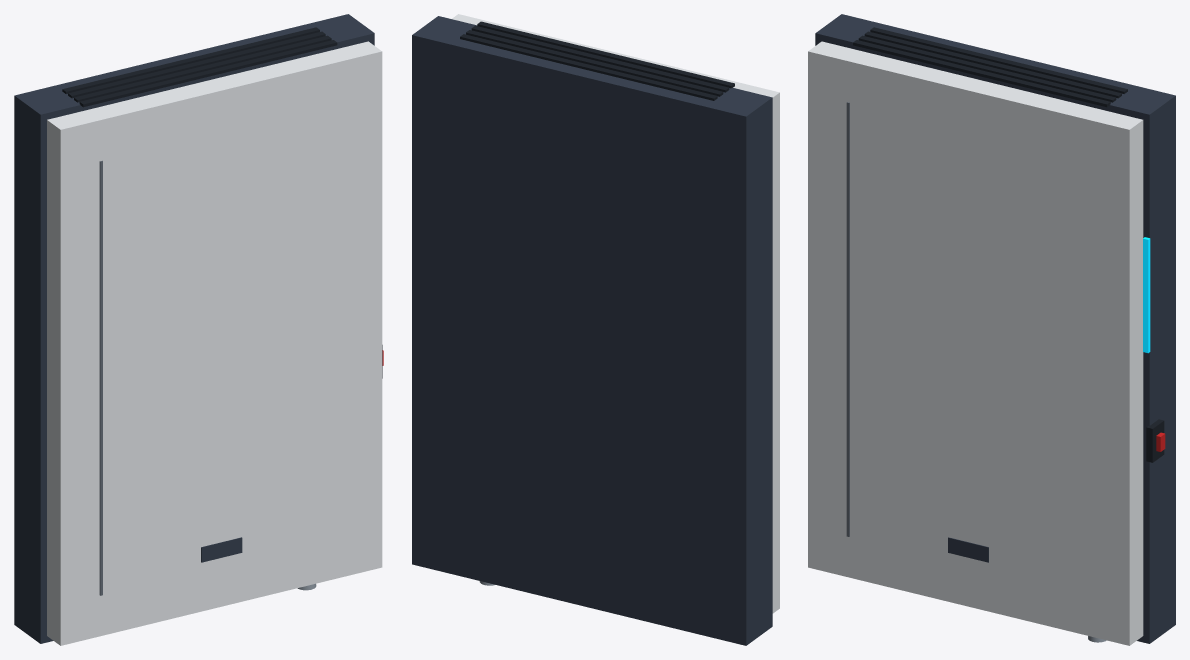
3 renders of one model, left to right at view 1: azimuth 30°, elevation 25°; view 2: azimuth 150°, elevation 25°; view 3: azimuth 330°, elevation 25°, orthographic.
Parts seen in each view (by area): view 1: cad-battery-wall-ess; view 2: cad-battery-wall-ess; view 3: cad-battery-wall-ess.
Part boxes in pixels (box(x1,y1,x2,y2)): cad-battery-wall-ess: box(14, 14, 383, 645); cad-battery-wall-ess: box(412, 14, 779, 645); cad-battery-wall-ess: box(808, 14, 1175, 645).
Size of the model in its own units: 0.762 by 1.16 by 0.1558.
